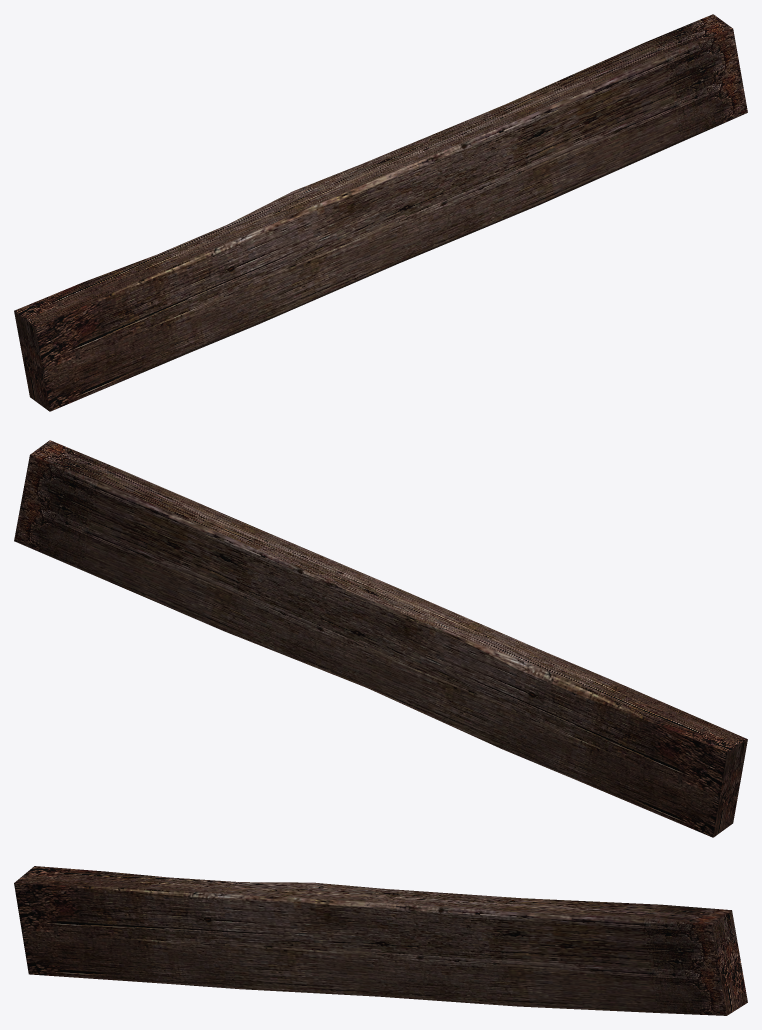
The model's file is 9m_wood_beam_10_deg.fbx.
3 views of the same model, one above another, from view 1: azimuth 30°, elevation 25°; view 2: azimuth 150°, elevation 25°; view 3: azimuth 330°, elevation 25° (orthographic).
Parts seen in each view (by area): view 1: mesh_0; view 2: mesh_0; view 3: mesh_0.
Part boxes in pixels (box(x1,y1,x2,y2)): mesh_0: box(14, 14, 747, 411); mesh_0: box(14, 440, 747, 837); mesh_0: box(14, 866, 747, 1015).
Size of the model in its own units: 805 by 233 by 44.73.
Materials: 1 (1 with a texture image).
